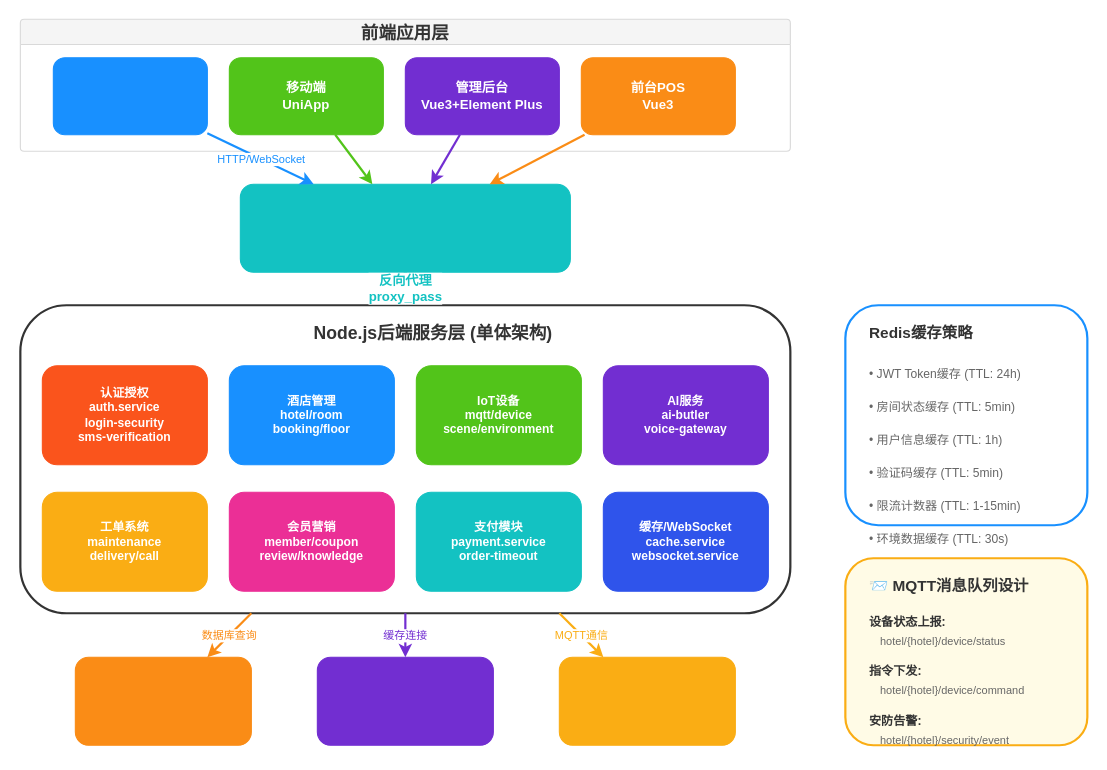
The diagram is 1107 pixels wide and 770 high, and some of its shapes have lost their labels. Here are the shapes that lost their labels. From the top down, the centre of each, then its label:
At pixel 129 96: "Web端 Vue3+Vite".
At pixel 404 227: "Nginx反向代理 负载均衡 │ 静态资源 │ SSL终止".
At pixel 162 700: "MySQL数据库 mysql:8.0 端口:3306".
At pixel 404 700: "Redis缓存 redis:7-alpine 端口:6379".
At pixel 646 700: "MQTT Broker eclipse-mosquitto:2.0 端口:1883,9001".
